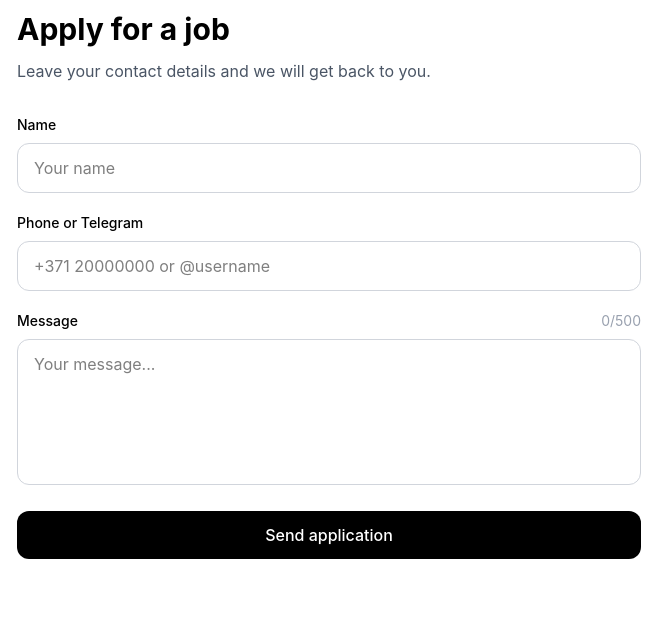
Test case: ApplicationForm › does not submit when required fields are invalid
The image size is (659, 633).
Click the button "Send application".
click(329, 535)  # box [17,511,641,559]
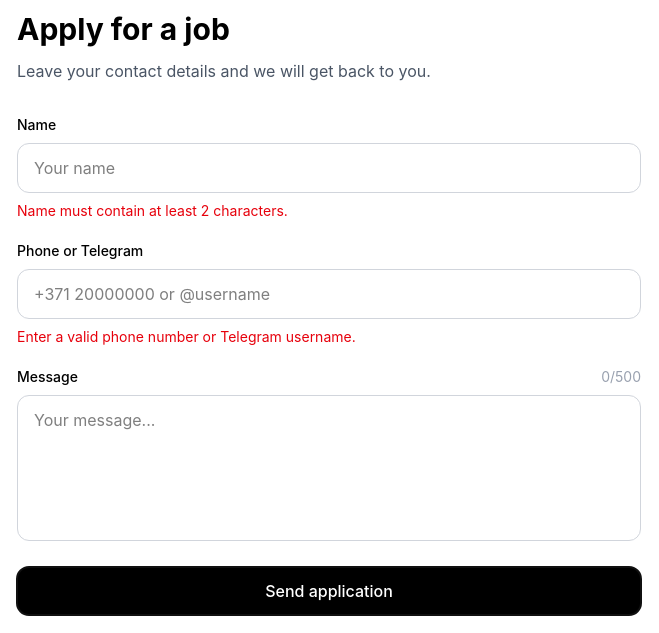
Expected: the text "Name must contain at least 2 characters." is shown, [17,202,288,219]
Expected: the text "Enter a valid phone number or Telegram username." is shown, [17,328,356,345]
